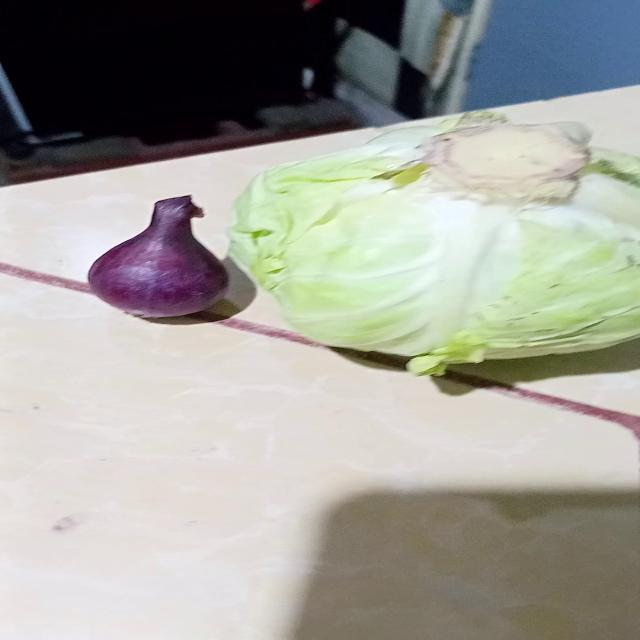cabbage: (226, 115, 640, 376)
onion: (88, 195, 229, 319)
